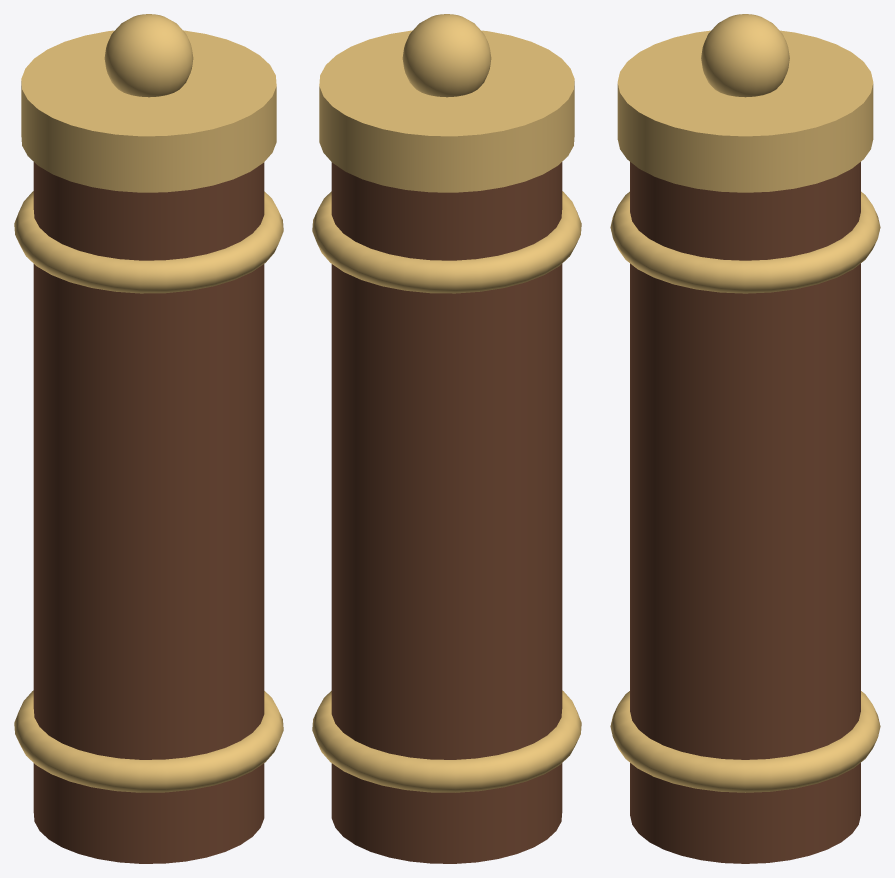
File: royal-court-and-throne-palace-dispatch-scroll-case-37fd3291__29403.glb
3 views of the same model, side by side, from view 1: azimuth 30°, elevation 25°; view 2: azimuth 150°, elevation 25°; view 3: azimuth 270°, elevation 25° (orthographic).
Parts seen in each view (by area): view 1: dispatch-scroll-case; view 2: dispatch-scroll-case; view 3: dispatch-scroll-case.
Part boxes in pixels (bbox=[...]): dispatch-scroll-case: bbox=[14, 14, 283, 863]; dispatch-scroll-case: bbox=[312, 14, 581, 863]; dispatch-scroll-case: bbox=[610, 14, 880, 863].
Size of the model in its own units: 0.152 by 0.495 by 0.152.
